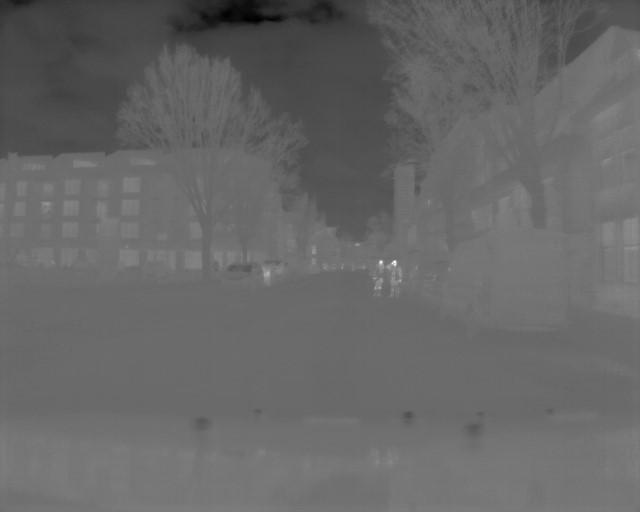car: (221, 262, 265, 297)
person: (390, 257, 405, 300), (370, 256, 385, 298)
